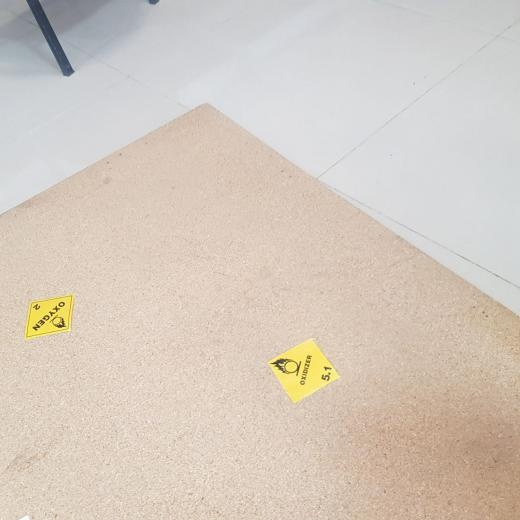oxygen: (269, 334, 340, 405), (28, 294, 74, 340)
